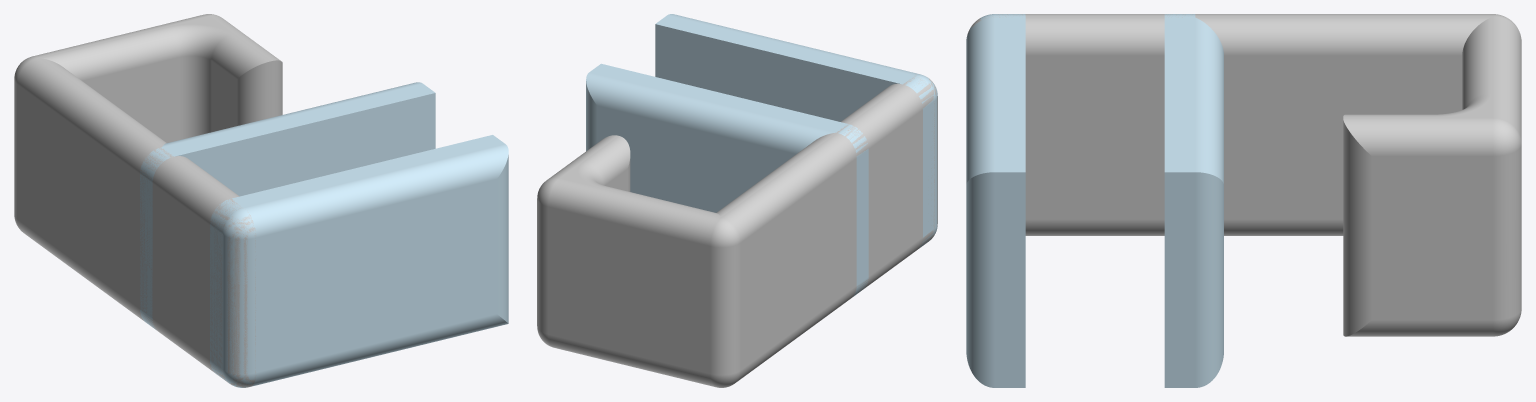
Rendered from hook-v2.glb.
3 renders of one model, left to right at view 1: azimuth 30°, elevation 25°; view 2: azimuth 150°, elevation 25°; view 3: azimuth 270°, elevation 25°, orthographic. The views are drawn at different scales.
Visible parts, largest first — view 1: Part 3, Part 2, Part 1; view 2: Part 3, Part 1, Part 2; view 3: Part 3, Part 2, Part 1.
Boxes of the visible parts, x1,y1,x2,y2 form: Part 3: [14, 14, 282, 387]; Part 2: [210, 135, 508, 387]; Part 1: [140, 82, 435, 329]; Part 3: [537, 74, 937, 387]; Part 1: [586, 63, 868, 297]; Part 2: [655, 14, 937, 247]; Part 3: [966, 14, 1521, 336]; Part 2: [966, 14, 1025, 387]; Part 1: [1164, 14, 1223, 387].
Size of the model in its own units: 0.127 by 0.0762 by 0.1778.
